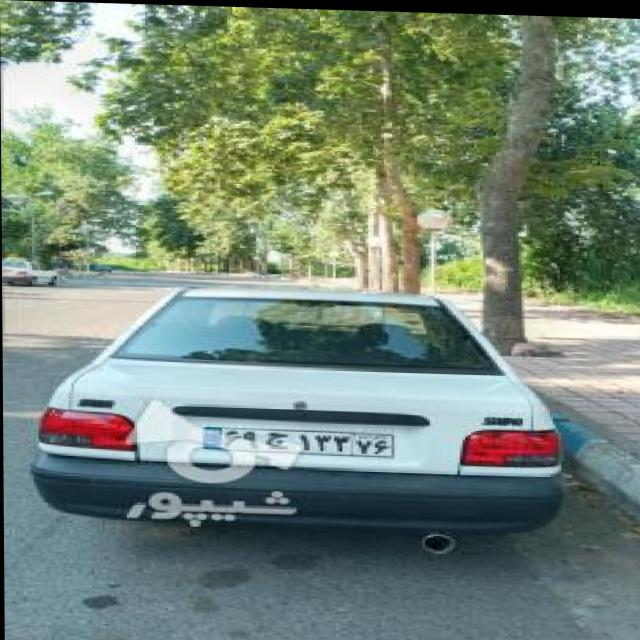licence: (199, 422, 391, 455)
